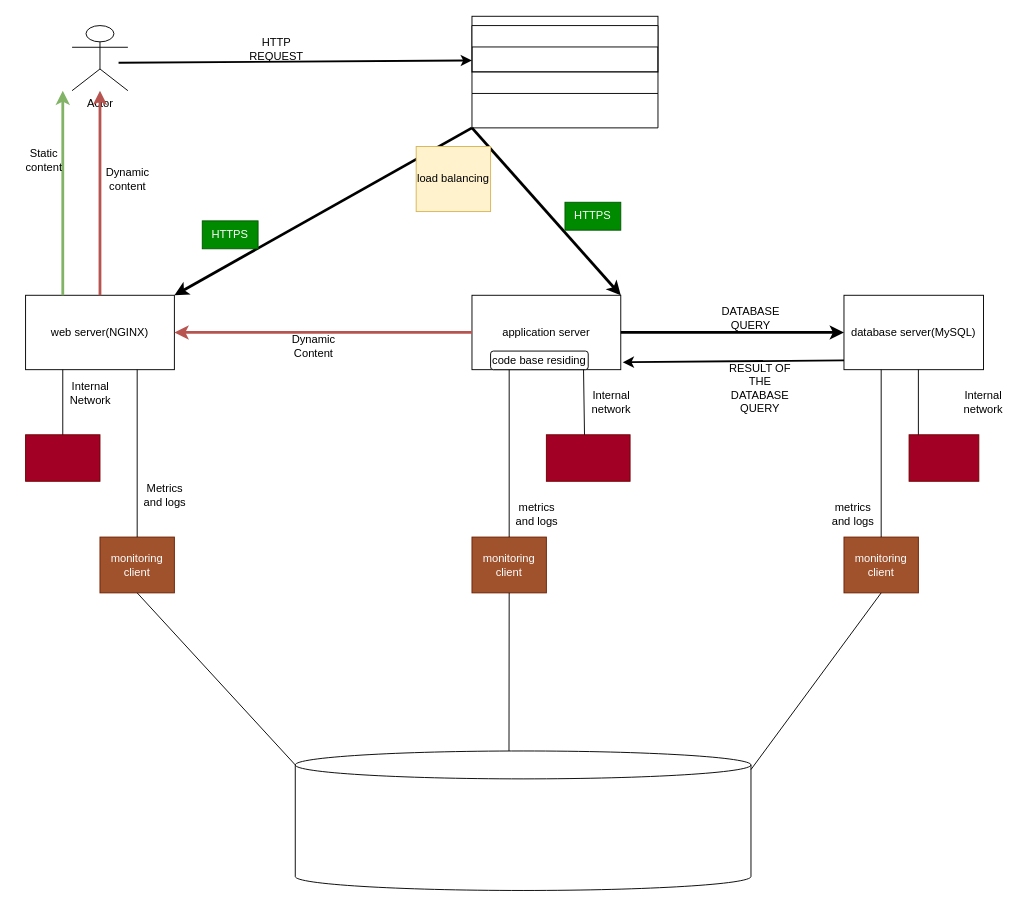
This 1027x907 diagram has some shape labels left out. The box of each missing label's shape, as (x1, y1, x2, y2) in pixels:
Data collector for Sumologic or other monitoring services: (294, 750, 751, 890)
firewall 1: (25, 434, 100, 481)
firewall 2: (545, 434, 630, 481)
firewall 3: (908, 434, 979, 481)
LOAD BALANCER: (471, 25, 658, 72)
